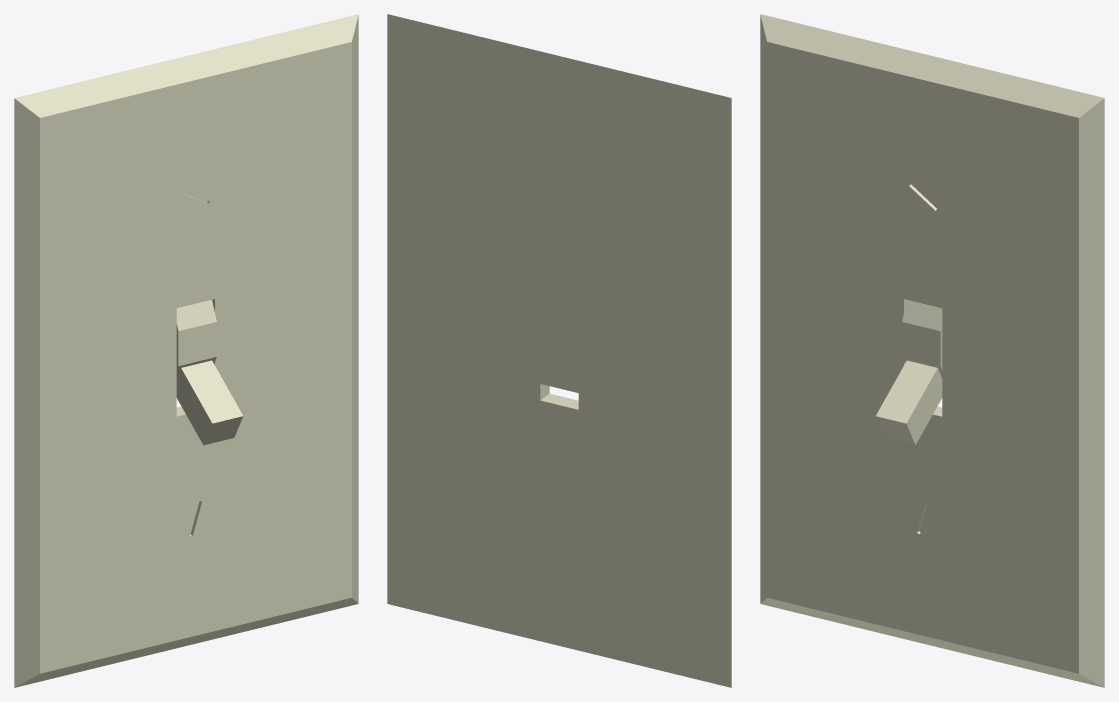
The picture shows the model from 3 angles, left to right: view 1: azimuth 30°, elevation 25°; view 2: azimuth 150°, elevation 25°; view 3: azimuth 330°, elevation 25°; orthographic projection.
Visible parts, largest first — view 1: wall plate regular switch; view 2: wall plate regular switch; view 3: wall plate regular switch.
Boxes of the visible parts, bbox=[...] form: wall plate regular switch: bbox=[14, 14, 358, 687]; wall plate regular switch: bbox=[387, 14, 731, 687]; wall plate regular switch: bbox=[760, 14, 1104, 687].
Bounding box in the file's own units: 2.75 × 4.5 × 0.573.
